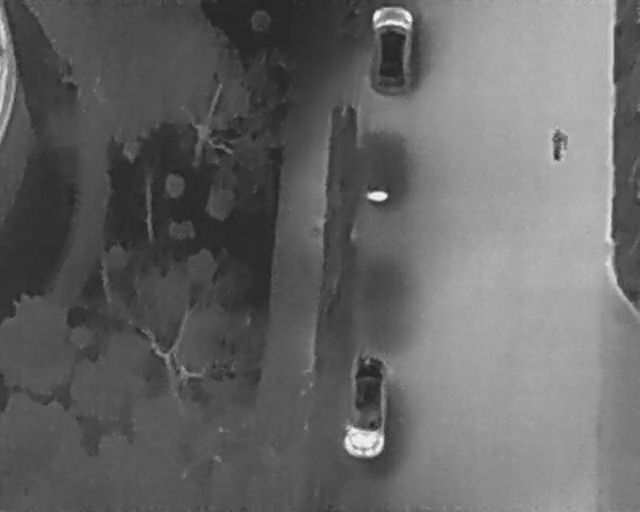Bicycle: (549, 126, 570, 163)
Car: (341, 352, 389, 460), (368, 3, 416, 97)
